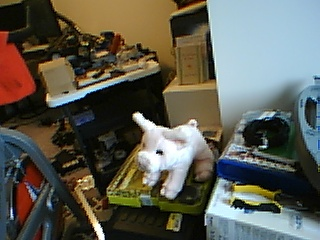piggy: (129, 109, 216, 202)
